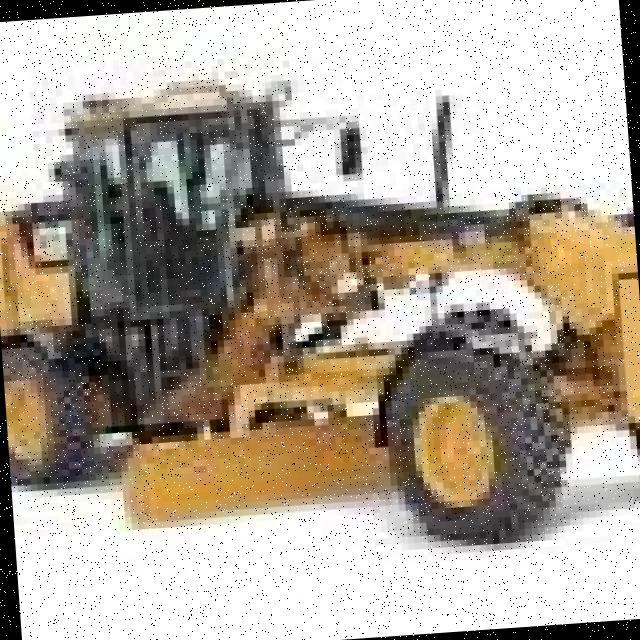Grader: (0, 17, 640, 589)
